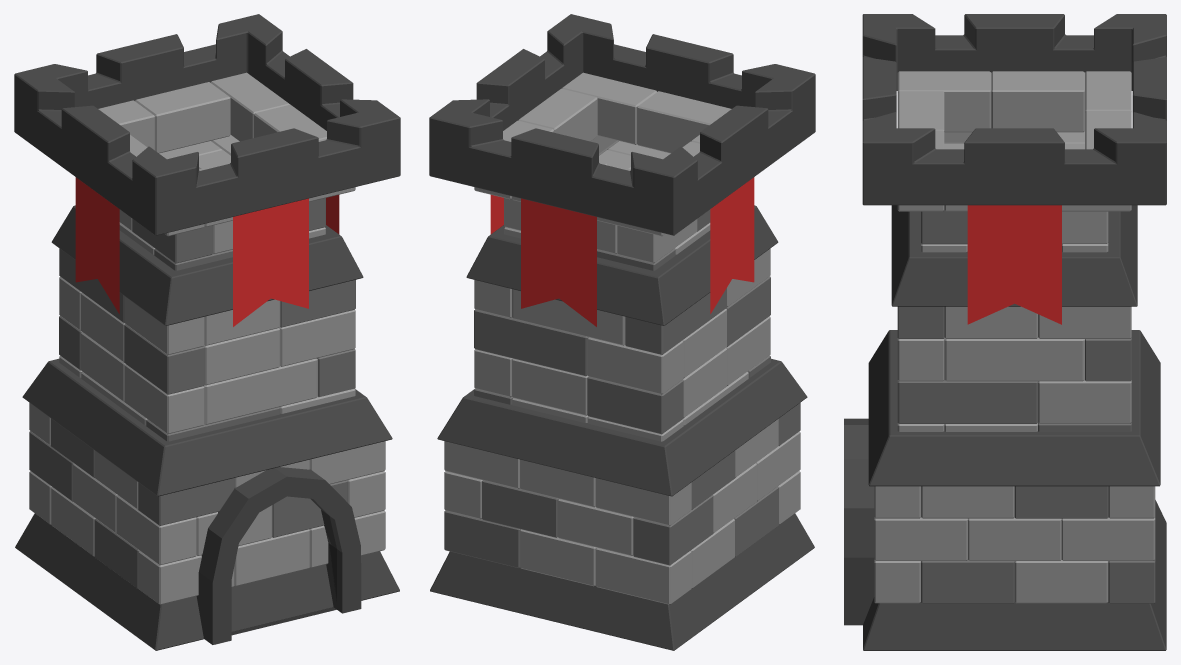
File: red_tower.glb
3 renders of one model, left to right at view 1: azimuth 30°, elevation 25°; view 2: azimuth 150°, elevation 25°; view 3: azimuth 270°, elevation 25°, orthographic. The views are drawn at different scales.
Parts seen in each view (by area): view 1: Cube.013, Cube.011, Cube.010, Cylinder.006, Cube.012, Plane.006, Plane.007, brick_mid.159, brick_mid.188, brick_dark.064, brick_mid.140, brick_mid.160 (+37 smaller); view 2: Cube.013, Cube.011, Cube.010, Cube.012, Plane.006, Plane.007, brick_dark.063, brick_dark.062, brick_mid.163, brick_mid.075, brick_mid.182, brick_dark.053 (+35 smaller); view 3: Cube.013, Cube.011, Cube.010, Cube.012, Plane.007, brick_dark.061, brick_mid.164, Cylinder.006, brick_mid.183, brick_mid.144, brick_mid.080, brick_mid.158 (+24 smaller).
Boxes of the visible parts, x1,y1,x2,y2 form: Cube.013: (14, 14, 400, 235); Cube.011: (22, 358, 392, 496); Cube.010: (15, 513, 399, 650); Cylinder.006: (196, 467, 361, 644); Cube.012: (51, 205, 363, 325); Plane.006: (233, 198, 308, 326); Plane.007: (75, 177, 339, 313); brick_mid.159: (204, 358, 317, 424); brick_mid.188: (135, 82, 230, 153); brick_dark.064: (124, 324, 204, 394); brick_mid.140: (116, 495, 196, 565); brick_mid.160: (124, 364, 204, 433); Cube.013: (429, 14, 815, 235); Cube.011: (437, 358, 807, 496); Cube.010: (430, 513, 814, 650); Cube.012: (466, 205, 778, 325); Plane.006: (521, 198, 596, 326); Plane.007: (490, 177, 754, 313); brick_dark.063: (474, 309, 588, 376); brick_dark.062: (587, 376, 683, 434); brick_mid.163: (587, 337, 683, 394); brick_mid.075: (595, 547, 691, 604); brick_mid.182: (637, 91, 731, 153); brick_dark.053: (633, 495, 713, 565); Cube.013: (862, 14, 1166, 205); Cube.011: (868, 330, 1160, 486); Cube.010: (863, 500, 1166, 650); Cube.012: (891, 205, 1137, 306); Plane.007: (967, 205, 1061, 324); brick_dark.061: (897, 380, 1037, 423); brick_mid.164: (944, 337, 1084, 381); Cylinder.006: (844, 418, 874, 625); brick_mid.183: (991, 71, 1084, 132); brick_mid.144: (1061, 517, 1155, 560); brick_mid.080: (1014, 560, 1108, 603); brick_mid.158: (1038, 380, 1131, 423).
Bounding box in the file's own units: 2.6 × 4.8 × 2.76.
